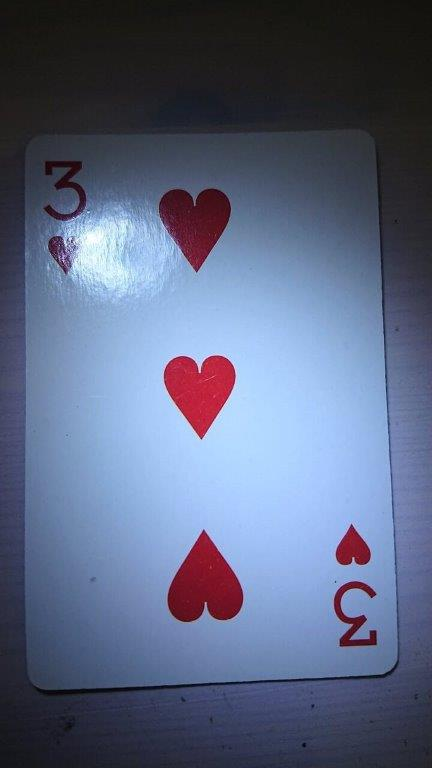3H: (22, 126, 400, 693)
